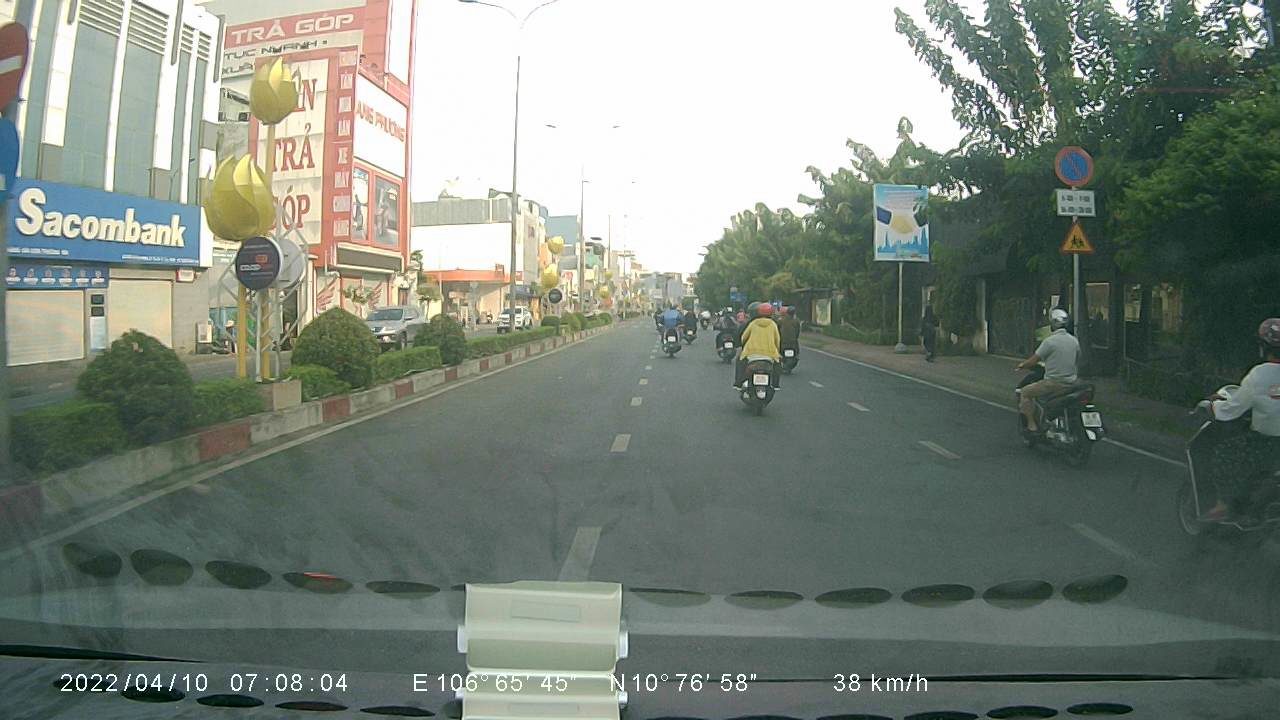Bien khac: (1054, 218, 1094, 254)
Cam do xe: (1050, 139, 1098, 184)
